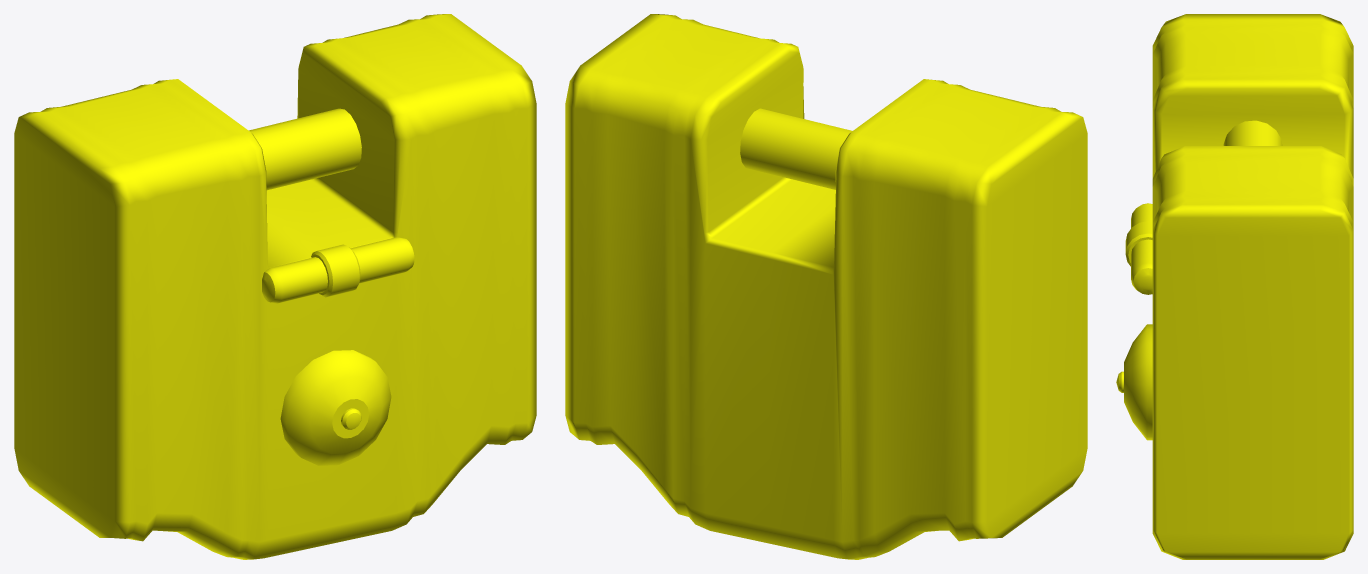
Rendered from DirectionalLock.fbx.
The picture shows the model from 3 angles, left to right: view 1: azimuth 30°, elevation 25°; view 2: azimuth 150°, elevation 25°; view 3: azimuth 270°, elevation 25°; orthographic projection. The views are drawn at different scales.
Visible parts, largest first — view 1: DirectionalLock; view 2: DirectionalLock; view 3: DirectionalLock.
Boxes of the visible parts, x1=… form: DirectionalLock: x1=14, y1=14, x2=536, y2=559; DirectionalLock: x1=565, y1=14, x2=1087, y2=559; DirectionalLock: x1=1116, y1=14, x2=1353, y2=559.
Size of the model in its own units: 4.44 by 4.36 by 2.27.
